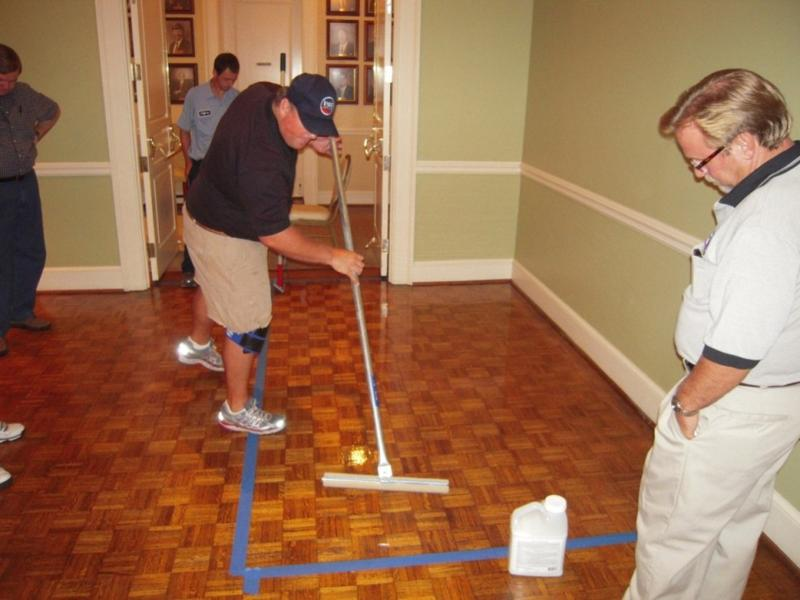person: (182, 71, 366, 436)
